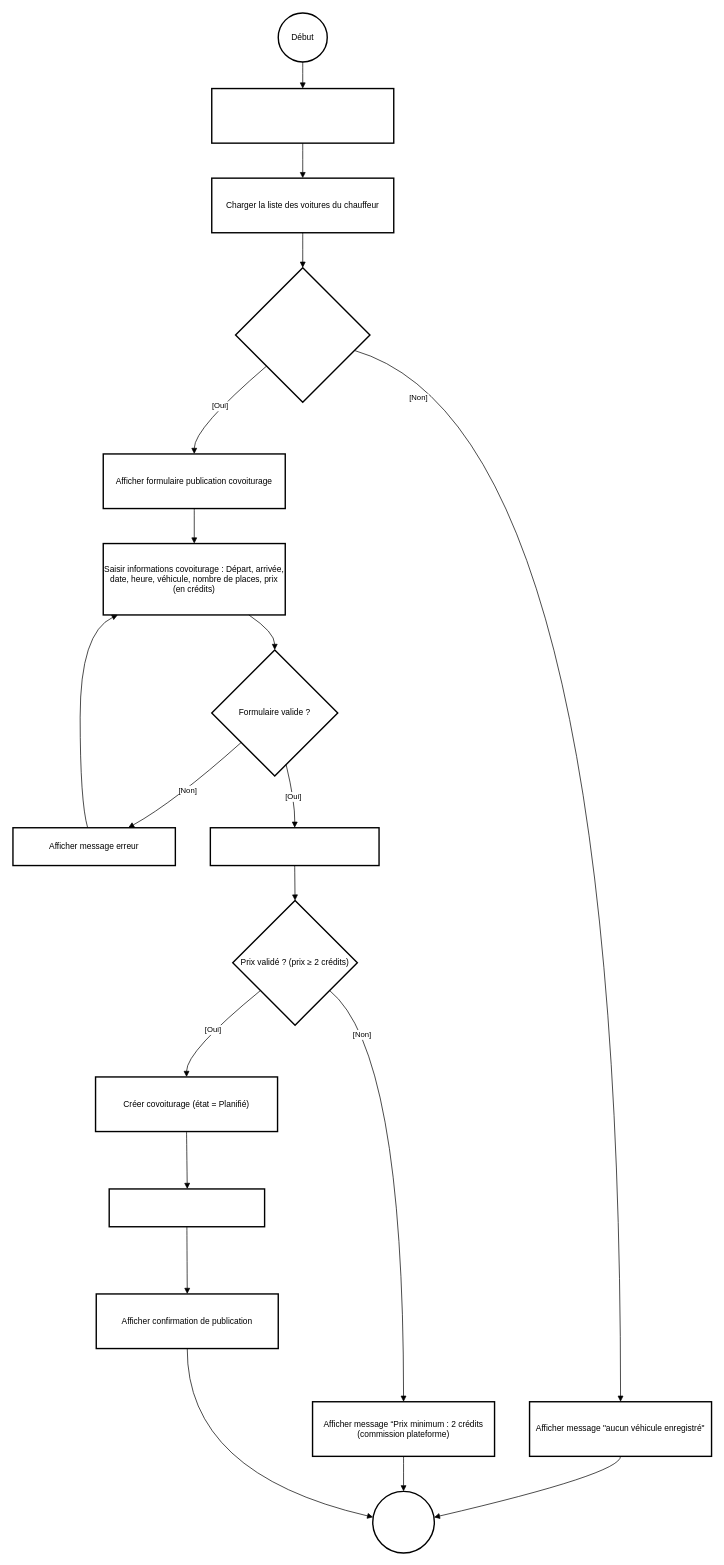
The diagram is 724 pixels wide and 1565 high, and some of its shapes have lost their labels. Each missing label, with the box of its shape:
Fin: (372, 1490, 435, 1553)
Initialiser places libres: (108, 1188, 265, 1227)
Ouvrir Publier un covoiturage: (211, 88, 394, 144)
Voiture disponible ?: (234, 267, 370, 402)
Vérifier crédits chauffeur: (209, 827, 379, 866)
